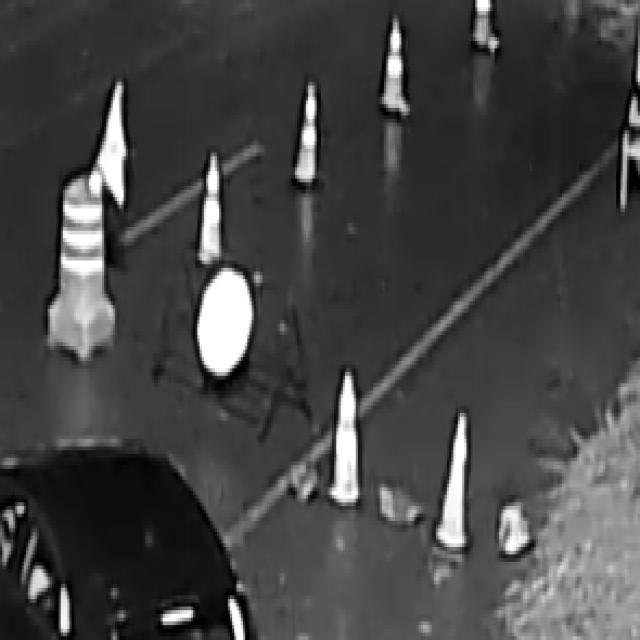big_cone: (60, 178, 109, 358)
small_cone: (439, 405, 473, 560), (331, 362, 362, 516), (378, 14, 412, 127), (198, 148, 225, 277), (293, 78, 320, 194)
